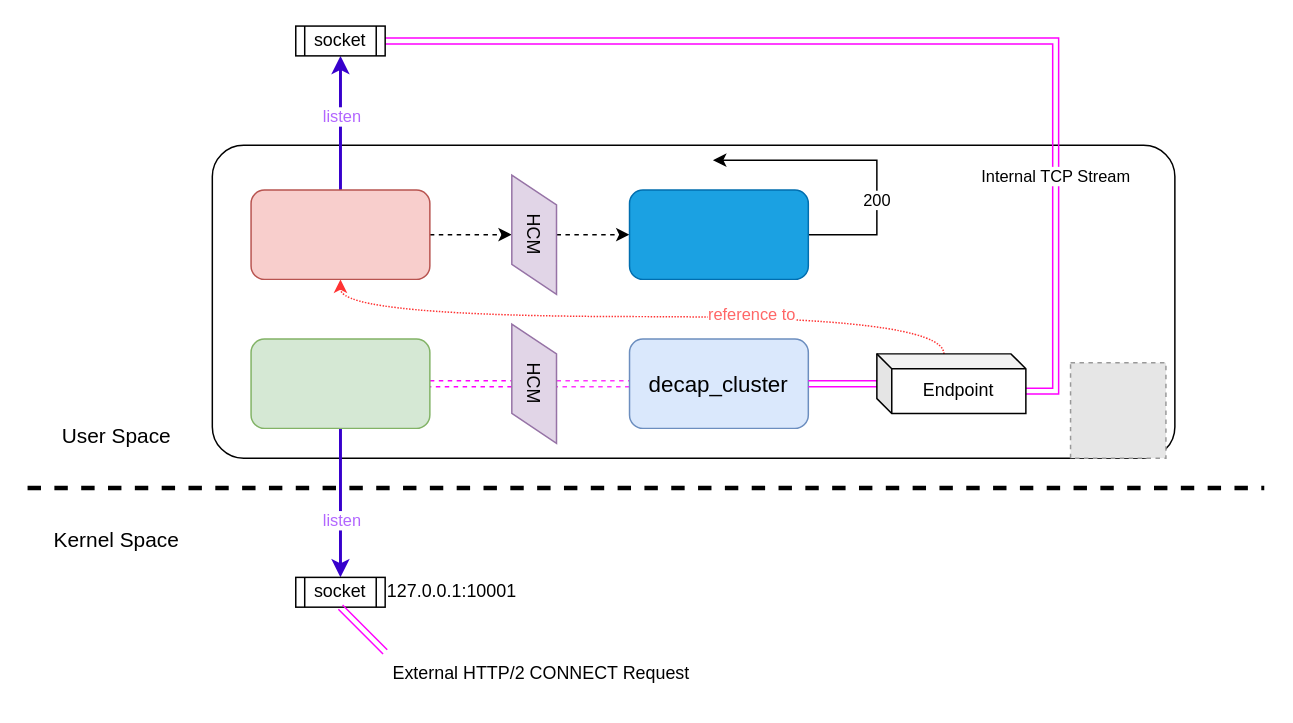
This 1293x723 diagram has some shape labels left out. Grey dashed boxes stand in for pictures. Here are the shapes that lost their labels. From the top down, the centre of each, then its label:
At point 340,233: "decap".
At point 718,233: "direct_response".
At point 340,382: "listener_0".
